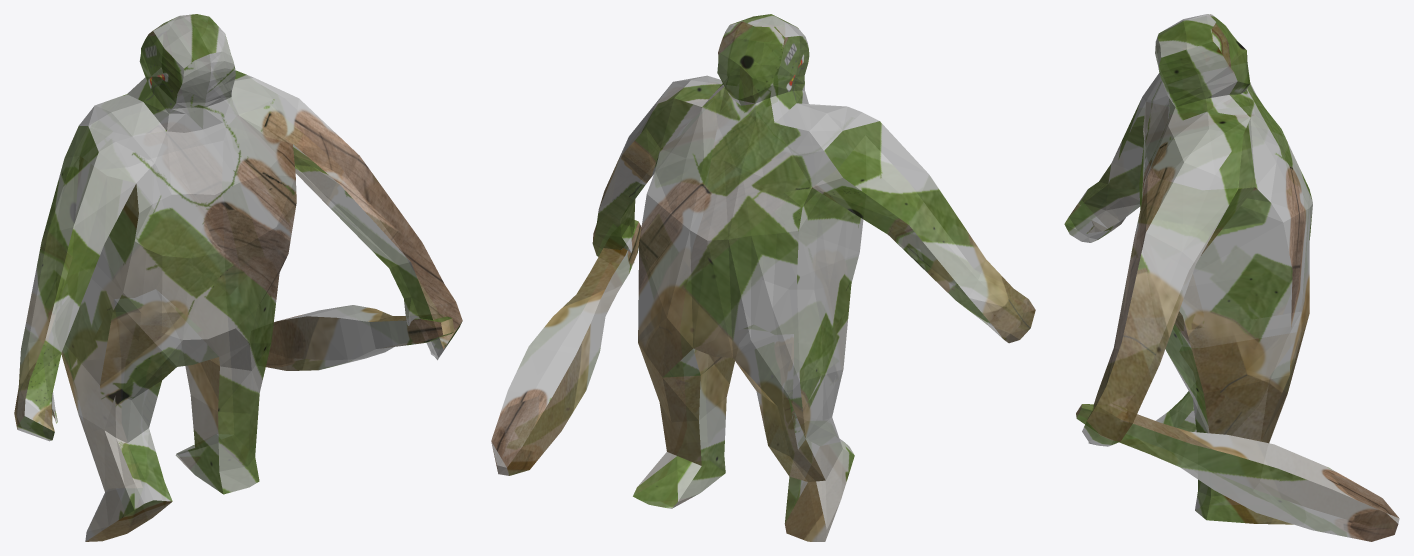
File: Enemigo26.obj
The picture shows the model from 3 angles, left to right: view 1: azimuth 30°, elevation 25°; view 2: azimuth 150°, elevation 25°; view 3: azimuth 270°, elevation 25°; orthographic projection. The views are drawn at different scales.
Visible parts, largest first — view 1: Cube; view 2: Cube; view 3: Cube.
Boxes of the visible parts, left/top/right/bottom form: Cube: left=14, top=14, right=462, bottom=541; Cube: left=491, top=14, right=1035, bottom=541; Cube: left=1064, top=14, right=1399, bottom=541.
Size of the model in its own units: 2.58 by 2.86 by 1.74.
